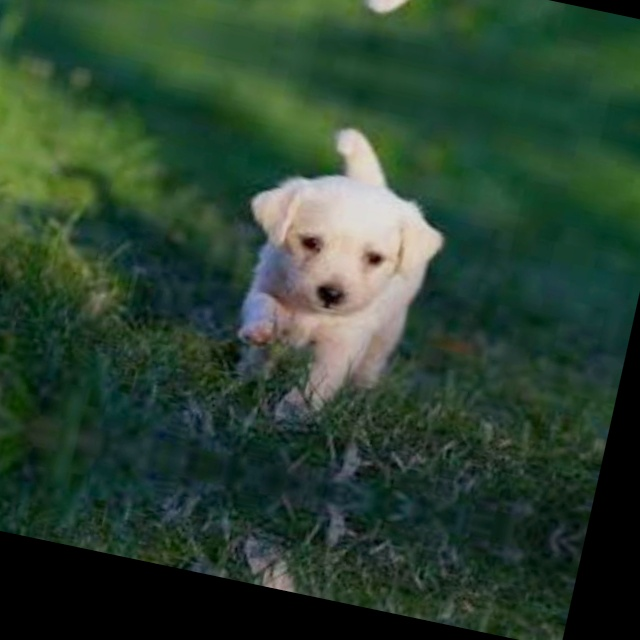dog: (183, 101, 491, 452), (148, 516, 399, 612), (274, 0, 526, 45)
